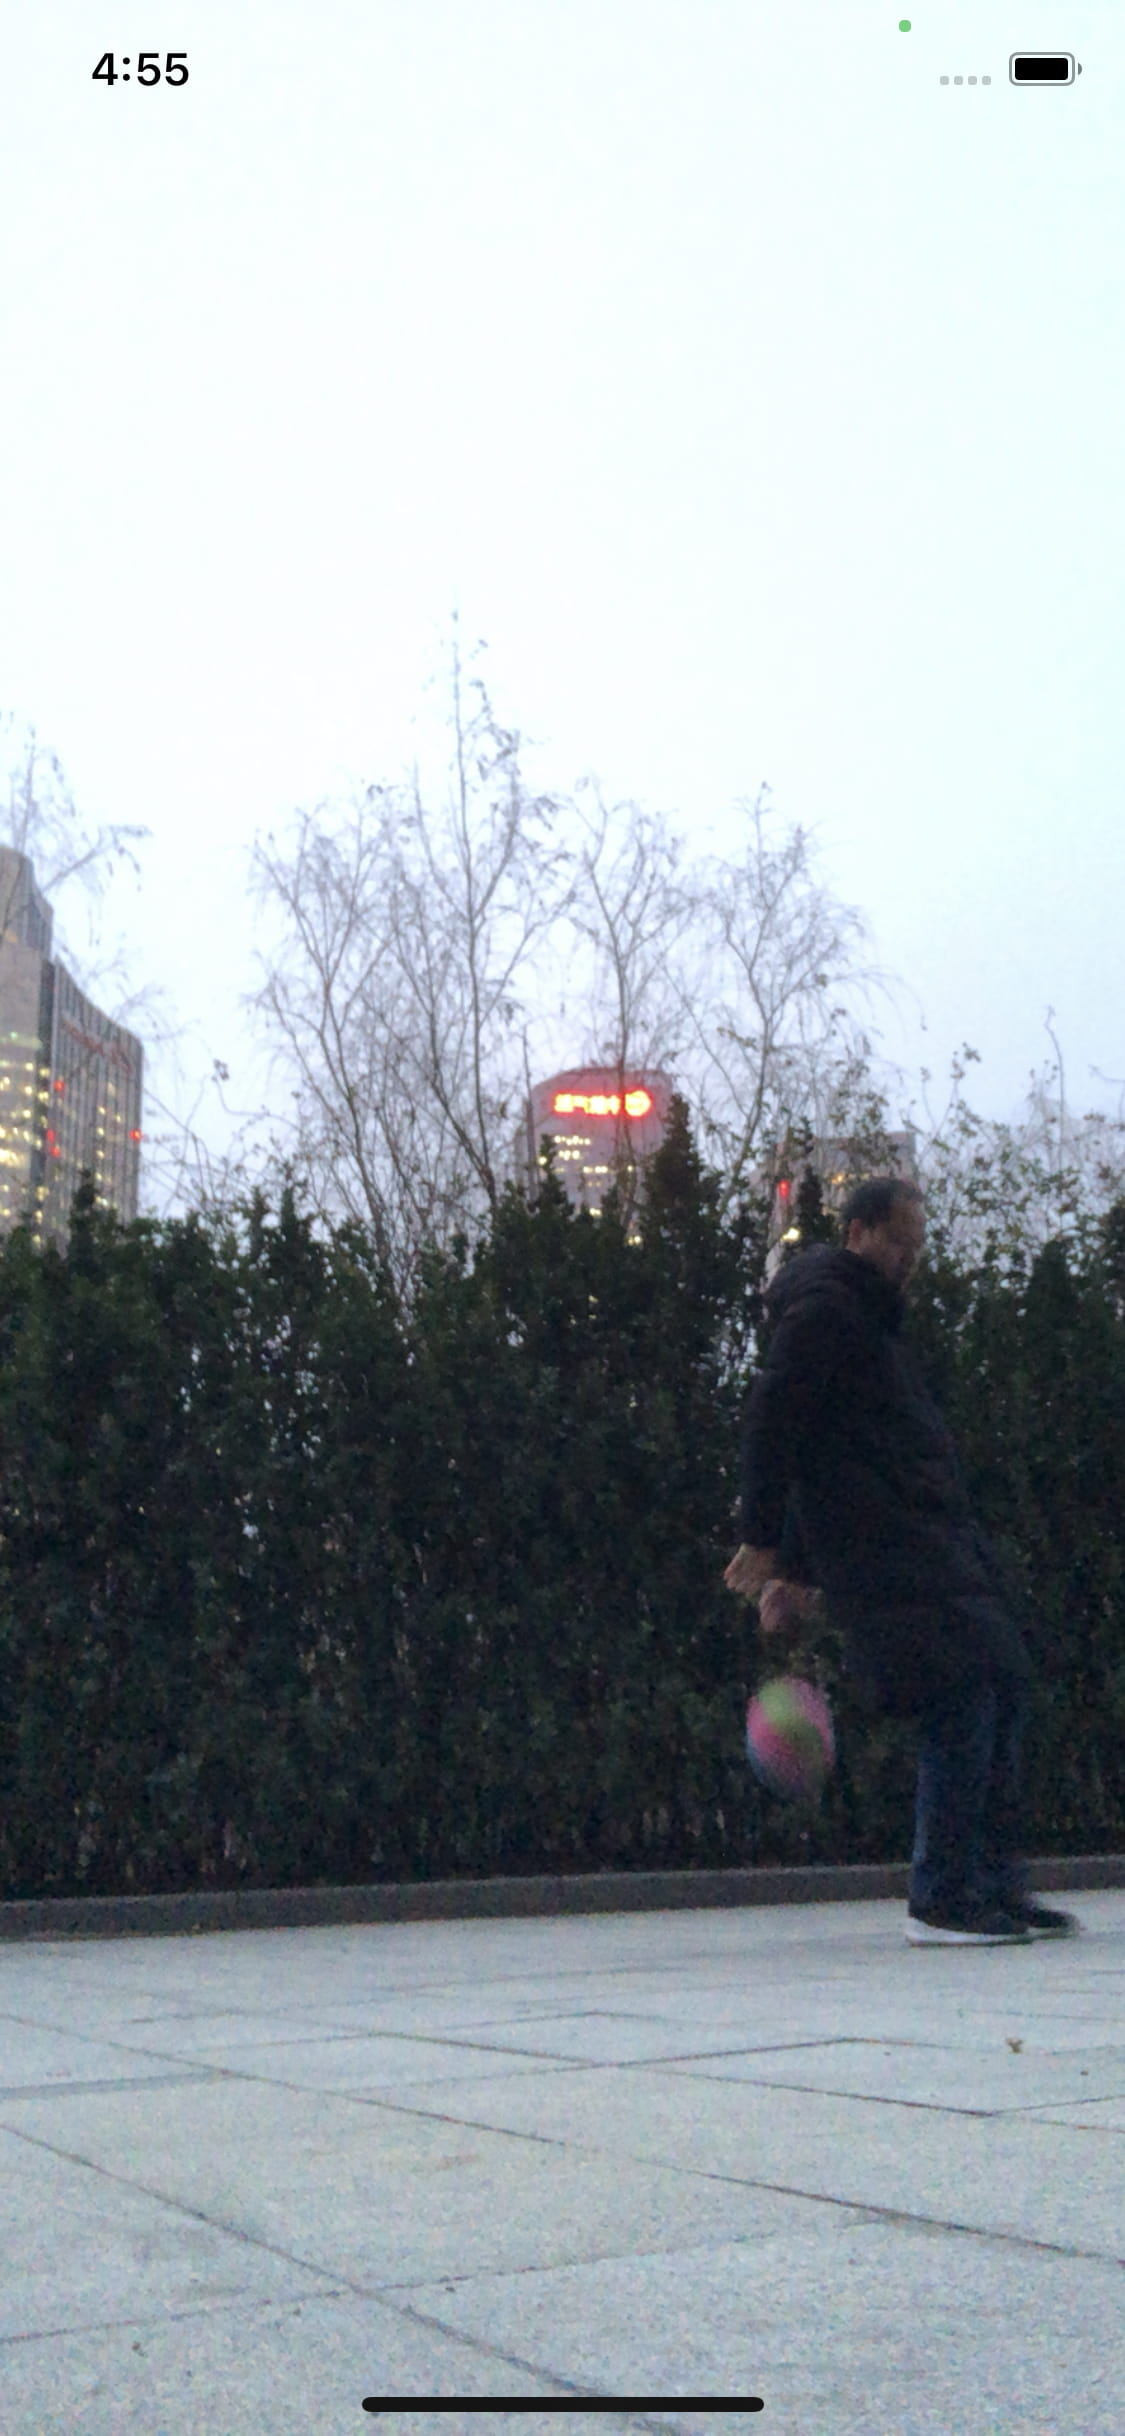ball: (747, 1675, 845, 1777)
